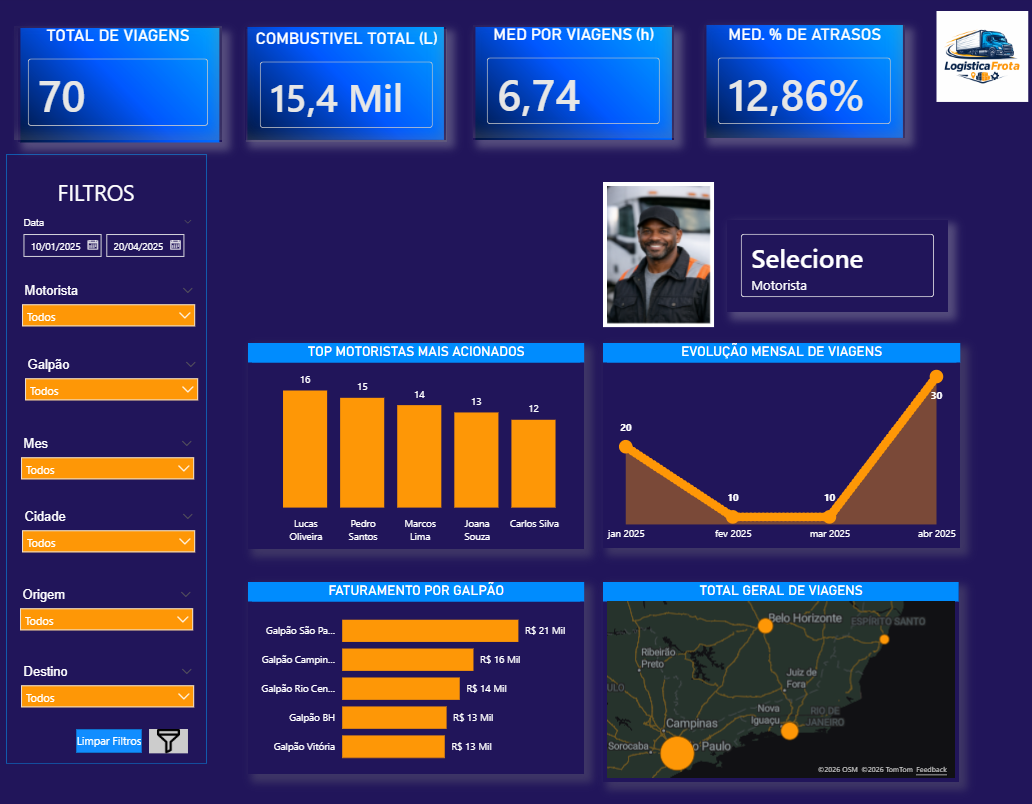

The dashboard page shown, as its layout file describes it:
{"tool":"powerbi","page":{"name":"Página 1","canvas":[1280,1000],"ordinal":0},"visuals":[{"type":"shape","box":[13.5,194.6,247.5,751.2],"z":0},{"type":"image","box":[873,35.3,248,139.1],"z":1000,"group":"g1"},{"type":"clusteredBarChart","title":"FATURAMENTO POR GALPÃO","fields":{"Category":["DimGalpao.NomeGalpao"],"Y":["Medidas.Total Receita"]},"box":[311.5,721.4,413.8,236.7],"z":1000},{"type":"cardVisual","title":"MED. % DE ATRASOS","fields":{"Data":["Medidas.% Atraso"]},"box":[873.5,35.2,248,139.1],"z":2000,"group":"g1"},{"type":"image","box":[588.1,38.5,248,139.1],"z":2000},{"type":"image","box":[1151.1,18.4,129,112.3],"z":3000},{"type":"image","box":[308.3,38.5,248,139.1],"z":4000},{"type":"image","box":[28.9,39.4,251.3,140.8],"z":5000},{"type":"lineChart","title":"EVOLUÇÃO MENSAL DE VIAGENS","fields":{"Y":["Medidas.Total Viagens"],"Category":["DimTempo.Data.Variation.Hierarquia de datas.Ano","DimTempo.Data.Variation.Hierarquia de datas.Trimestre","DimTempo.Data.Variation.Hierarquia de datas.Mês","DimTempo.Data.Variation.Hierarquia de datas.Dia"]},"box":[748.8,427.3,439.7,252.5],"z":6000},{"type":"azureMap","title":"TOTAL GERAL DE VIAGENS","fields":{"Category":["DimGalpao.Estado"],"Size":["Medidas.Total Viagens"]},"box":[748.8,721.7,438.4,246.3],"z":7000},{"type":"clusteredColumnChart","title":"TOP MOTORISTAS MAIS ACIONADOS","fields":{"Category":["DimMotorista.Nome"],"Y":["Medidas.Total Viagens"]},"box":[311.6,427.3,413.8,253.7],"z":8000},{"type":"cardVisual","title":"TOTAL DE VIAGENS","fields":{"Data":["Medidas.Total Viagens"]},"box":[23.4,36.9,256.2,140.4],"z":9000},{"type":"cardVisual","title":"COMBUSTIVEL TOTAL (L)","fields":{"Data":["Medidas.Total Combustível"]},"box":[309.1,40.6,247.5,139.2],"z":10000},{"type":"cardVisual","title":"MED POR VIAGENS (h)","fields":{"Data":["Medidas.Tempo Médio viagens"]},"box":[588.1,35.2,248,139.1],"z":11000},{"type":"slicer","fields":{"Values":["DimTempo.Data"]},"box":[22.2,267.8,232.9,62],"z":12000},{"type":"slicer","fields":{"Values":["DimRota.Origem"]},"box":[21.4,724.1,232.9,62],"z":13000},{"type":"slicer","fields":{"Values":["DimMotorista.Nome"]},"box":[23.9,349.9,232.9,62],"z":14000},{"type":"slicer","fields":{"Values":["DimRota.Destino"]},"box":[22.2,819.1,232.9,62],"z":15000},{"type":"slicer","fields":{"Values":["DimGalpao.Estado"]},"box":[27.3,440.4,232.9,62],"z":16000},{"type":"slicer","fields":{"Values":["DimGalpao.Cidade"]},"box":[23.9,628.1,232.9,62],"z":17000},{"type":"textbox","box":[58.6,217.8,130.7,58.6],"z":18000},{"type":"slicer","fields":{"Values":["DimTempo.Mes"]},"box":[22.2,537.6,232.9,62],"z":19000},{"type":"group","id":"g1","title":"Grupo 1","box":[873,35.2,248,139.1],"z":20000},{"type":"simpleImageEBC4593F96F1425FB3D84C5BF02B5075","fields":{"imageURL":["DimMotoristaURL.URL"]},"box":[748.8,228.7,136.9,178.7],"z":21000},{"type":"cardVisual","fields":{"Data":["Medidas.Motorista"]},"box":[901.8,275.4,272.1,112.7],"z":22000},{"type":"image","title":"Limpar filtros","box":[189.7,902.7,48,29.6],"z":23000},{"type":"shape","box":[99.8,902.7,81.3,29.6],"z":24000}]}

Visuals, with their boxes in screenshot pixels (x1, y1, x2, y2), scaled from the page's 1280x1000 canvas onto the 1032x804 screenshot:
shape: (11,156,210,760)
image: (704,28,904,140)
"FATURAMENTO POR GALPÃO" clusteredBarChart: (251,580,585,770)
"MED. % DE ATRASOS" cardVisual: (704,28,904,140)
image: (474,31,674,143)
image: (928,15,1031,105)
image: (249,31,449,143)
image: (23,32,226,145)
"EVOLUÇÃO MENSAL DE VIAGENS" lineChart: (604,344,958,547)
"TOTAL GERAL DE VIAGENS" azureMap: (604,580,957,778)
"TOP MOTORISTAS MAIS ACIONADOS" clusteredColumnChart: (251,344,585,548)
"TOTAL DE VIAGENS" cardVisual: (19,30,225,143)
"COMBUSTIVEL TOTAL (L)" cardVisual: (249,33,449,145)
"MED POR VIAGENS (h)" cardVisual: (474,28,674,140)
slicer - DimTempo.Data: (18,215,206,265)
slicer - DimRota.Origem: (17,582,205,632)
slicer - DimMotorista.Nome: (19,281,207,331)
slicer - DimRota.Destino: (18,659,206,708)
slicer - DimGalpao.Estado: (22,354,210,404)
slicer - DimGalpao.Cidade: (19,505,207,555)
textbox: (47,175,153,222)
slicer - DimTempo.Mes: (18,432,206,482)
"Grupo 1" group: (704,28,904,140)
simpleImageEBC4593F96F1425FB3D84C5BF02B5075 - DimMotoristaURL.URL: (604,184,714,328)
cardVisual - Medidas.Motorista: (727,221,946,312)
"Limpar filtros" image: (153,726,192,750)
shape: (80,726,146,750)
